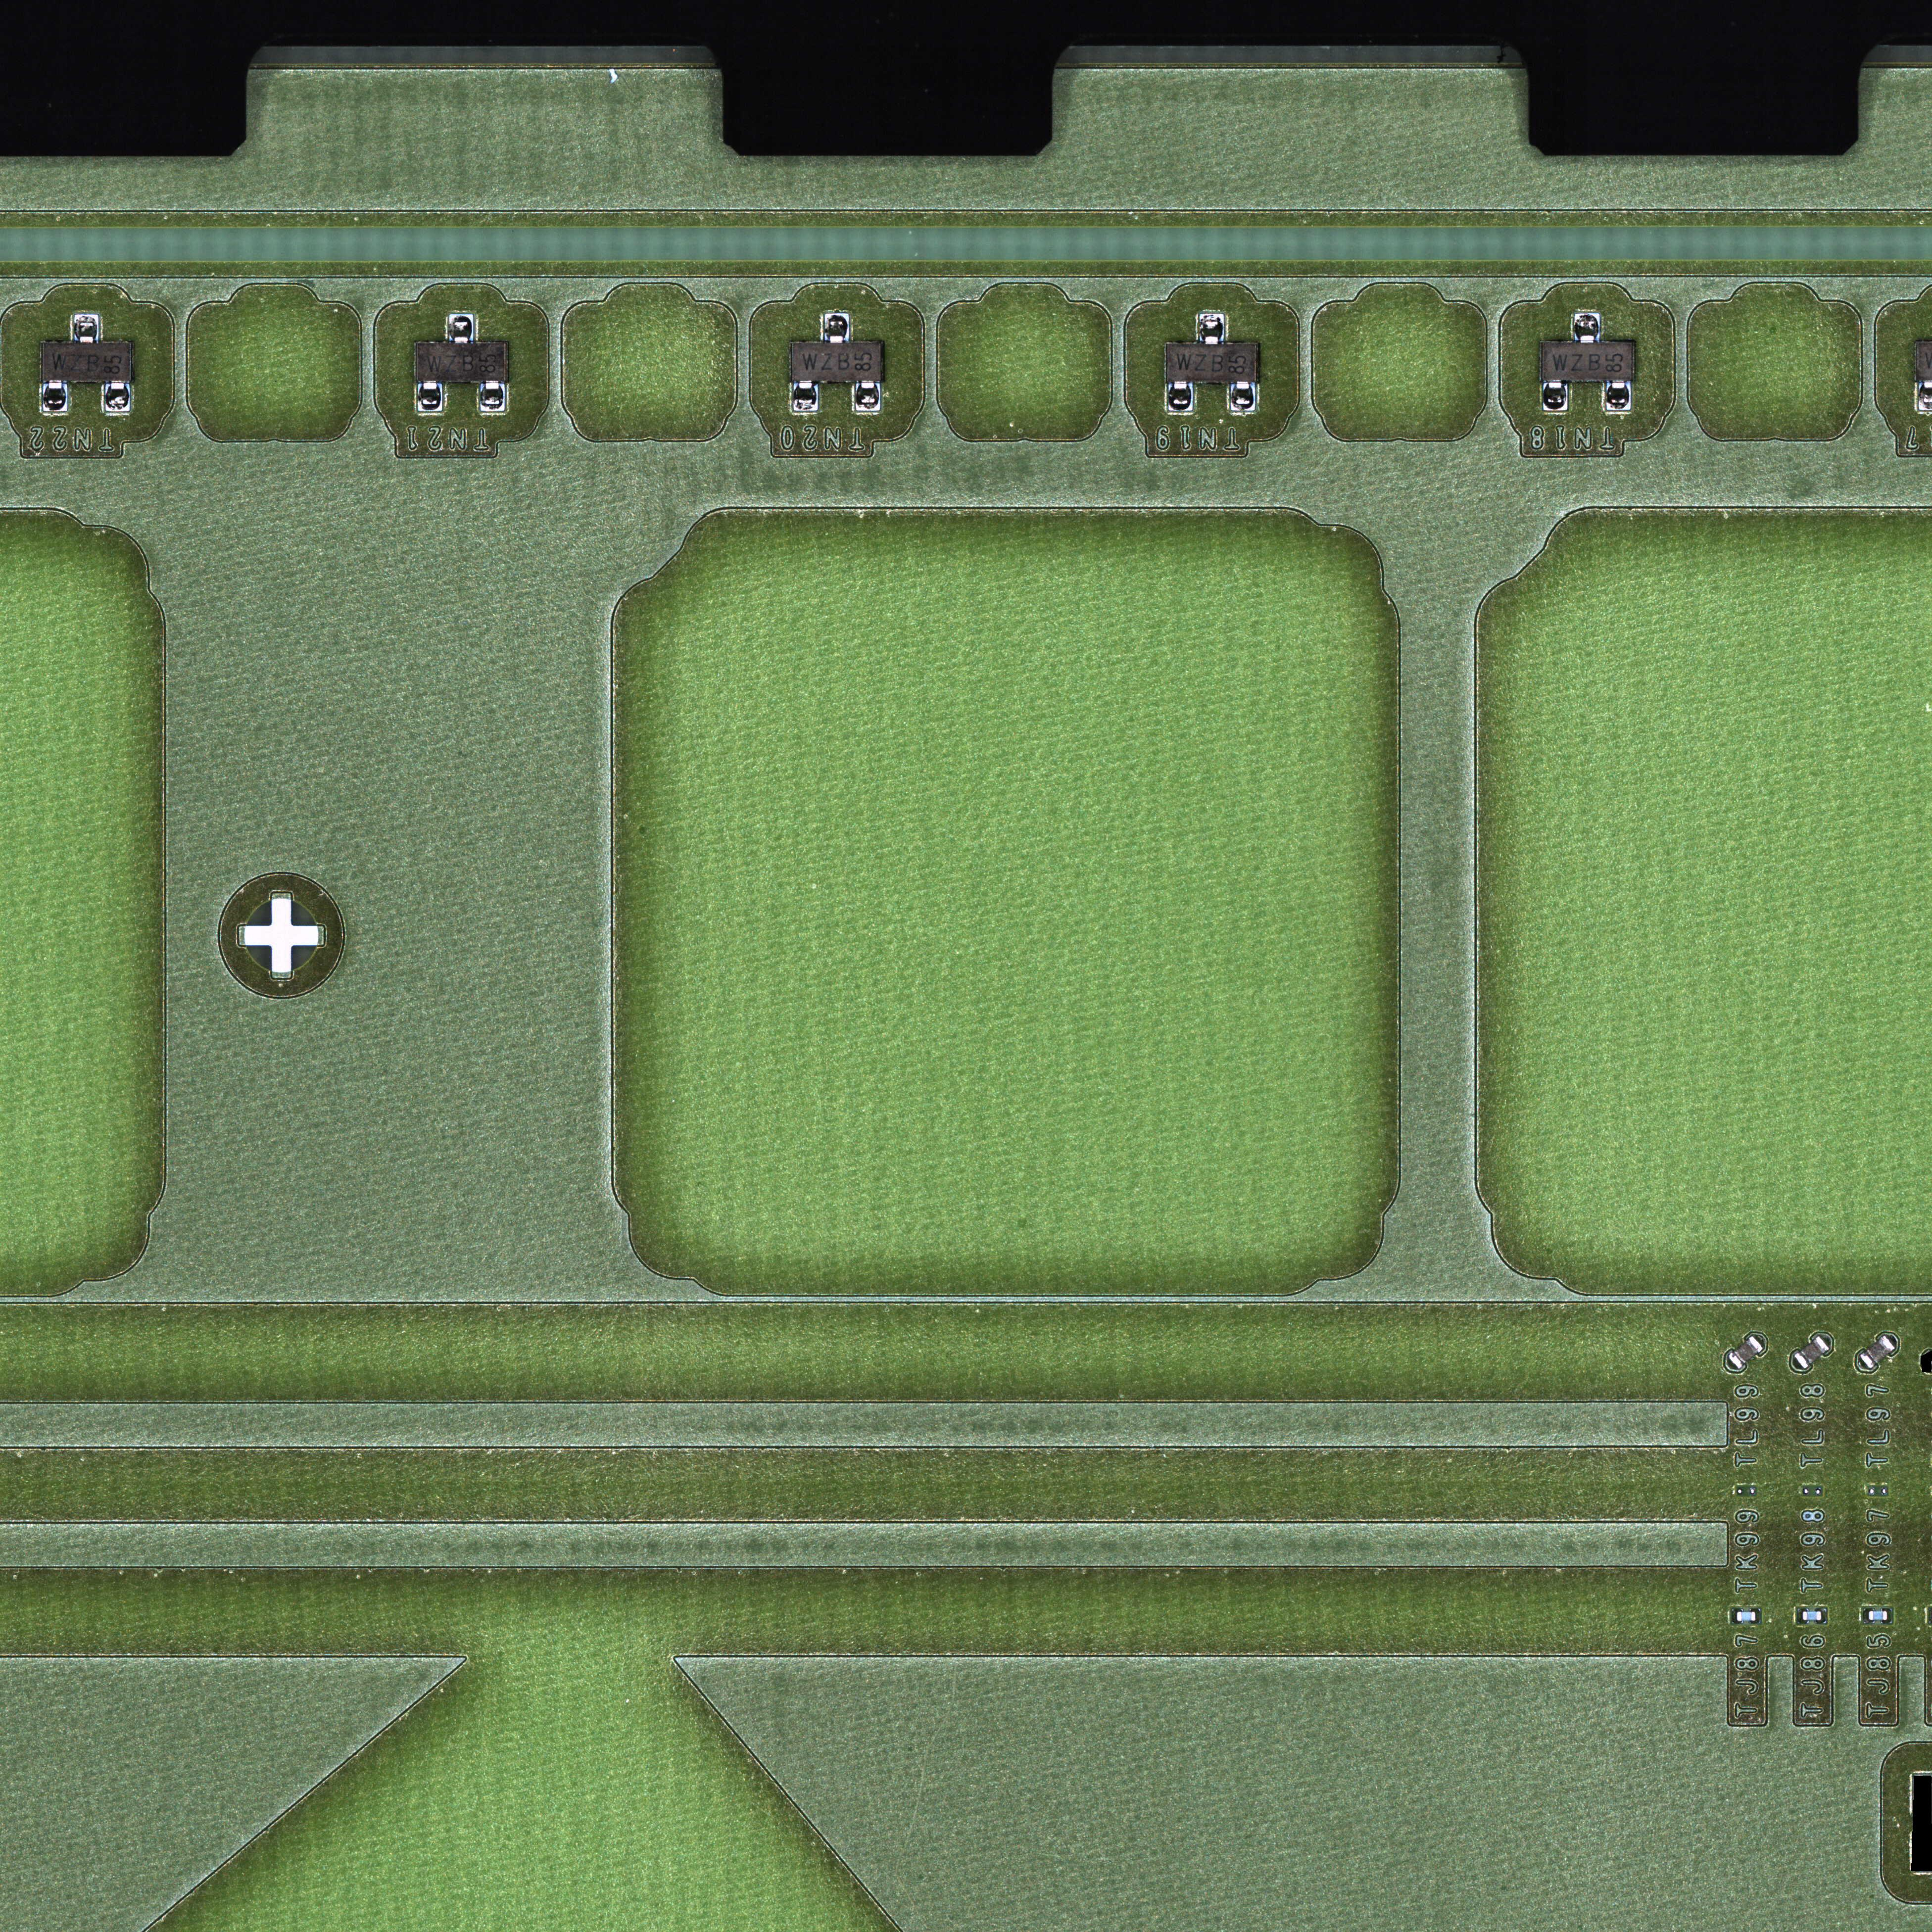Package: (1542, 342, 1634, 381), (417, 343, 506, 382), (792, 342, 882, 381), (1167, 343, 1256, 382), (44, 342, 130, 380), (1727, 1336, 1764, 1369), (1793, 1336, 1830, 1369), (1860, 1336, 1896, 1369), (1737, 1612, 1755, 1621), (1803, 1611, 1821, 1620), (1869, 1611, 1887, 1620)
Solder: (104, 381, 131, 412), (855, 381, 881, 412), (480, 382, 506, 412), (823, 312, 850, 342), (42, 381, 68, 411), (417, 382, 443, 413), (793, 381, 819, 412), (448, 314, 474, 343), (1167, 382, 1193, 412), (1606, 381, 1632, 411), (1198, 313, 1224, 342), (1573, 312, 1599, 341), (1229, 382, 1255, 411), (1543, 382, 1568, 411), (73, 314, 99, 342), (1752, 1331, 1769, 1349), (1819, 1330, 1835, 1348), (1885, 1330, 1902, 1348), (1722, 1357, 1738, 1373), (1788, 1356, 1804, 1373), (1855, 1356, 1870, 1373), (1755, 1608, 1761, 1624), (1732, 1608, 1738, 1624), (1797, 1608, 1803, 1624), (1863, 1608, 1869, 1624), (1821, 1608, 1827, 1624), (1887, 1608, 1893, 1623)
